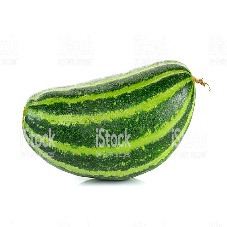cucumber: (22, 62, 197, 181)
